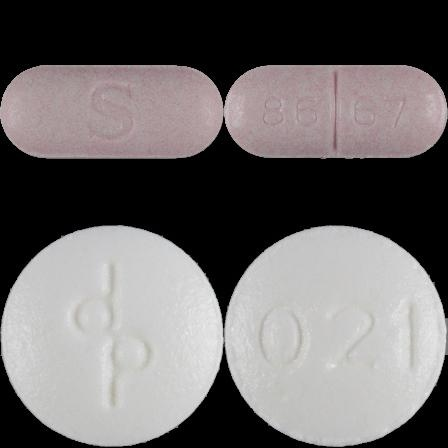54868-4733: (0, 0, 224, 224)
